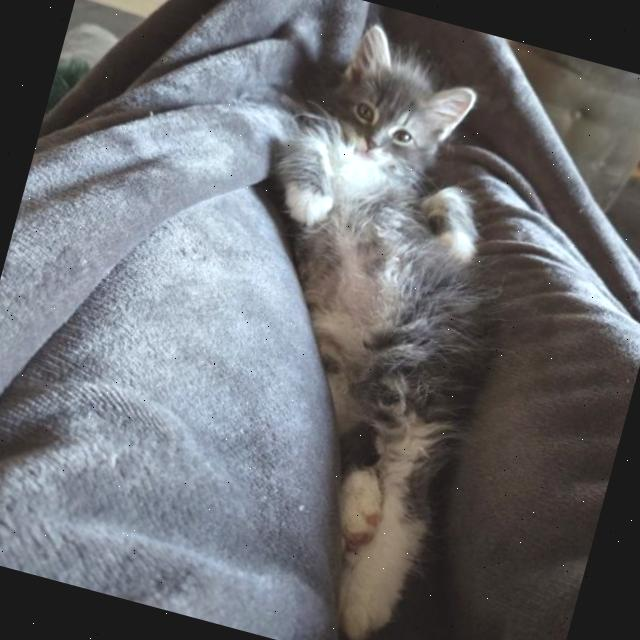domestic_long_hair_cat: (294, 8, 498, 202)
